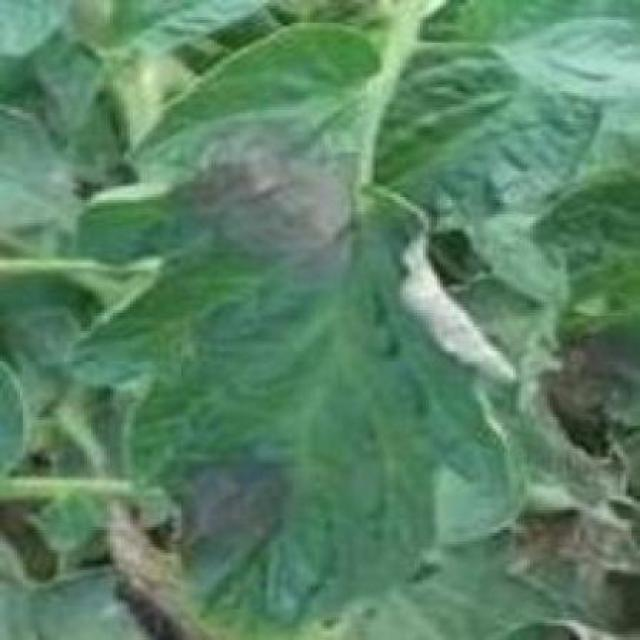Late Blight: (60, 4, 523, 640)
